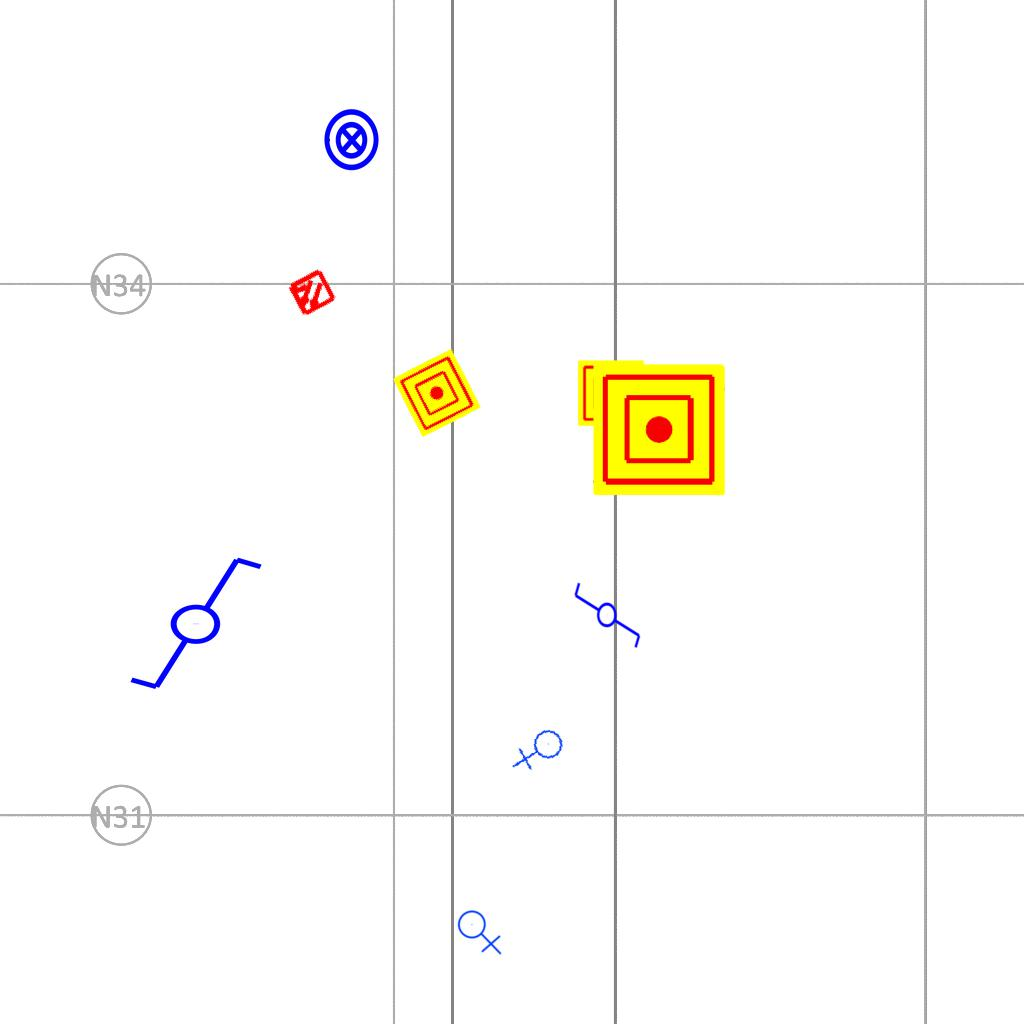Elektroanschluss_allgemein_230V_Geraeteanschlussdose_230V: (511, 723, 570, 780), (457, 906, 504, 955)
NAM-Nichtautomatischer_Melder: (593, 364, 725, 496), (392, 348, 482, 438), (578, 360, 644, 426)
OT_Multisensormelder_(Kombination_RMO_WMD): (273, 255, 349, 331)
Taster_beleuchtet: (319, 107, 385, 173)
Wechselschalter: (109, 550, 266, 694), (572, 572, 644, 650)
